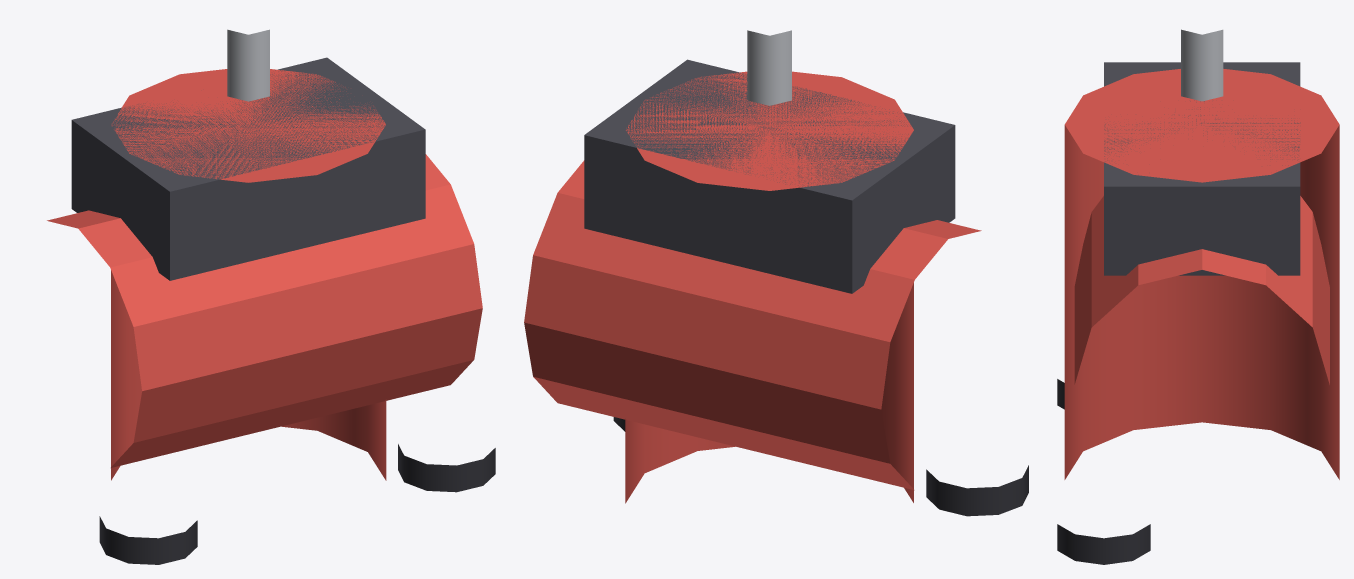
Rendered from air_compressor.glb.
The picture shows the model from 3 angles, left to right: view 1: azimuth 30°, elevation 25°; view 2: azimuth 150°, elevation 25°; view 3: azimuth 270°, elevation 25°; orthographic projection. The views are drawn at different scales.
Visible parts, largest first — view 1: air_compressor; view 2: air_compressor; view 3: air_compressor.
Boxes of the visible parts, bbox=[...] form: air_compressor: bbox=[47, 29, 495, 564]; air_compressor: bbox=[524, 30, 1028, 516]; air_compressor: bbox=[1057, 29, 1339, 564].
Bounding box in the file's own units: 0.9 × 1.03 × 0.5751.
